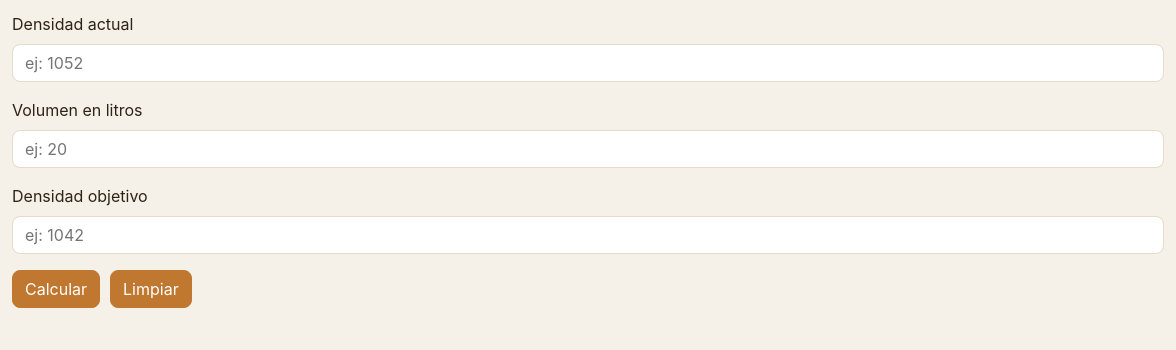
Test case: WaterDilution › muestra el agua a añadir con valores válidos
In the field with placeholder "ej: 1052": (588, 63) [12,44,1164,82], type "1052"
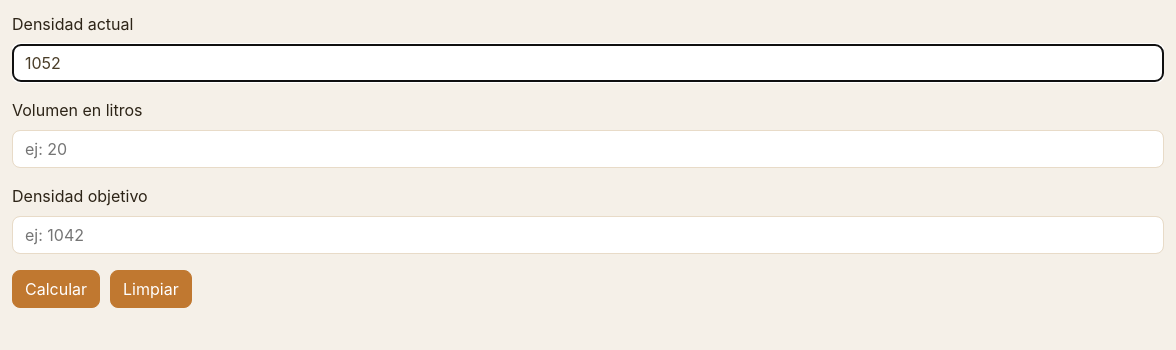
In the field with placeholder "ej: 20": (588, 149) [12,130,1164,168], type "20"
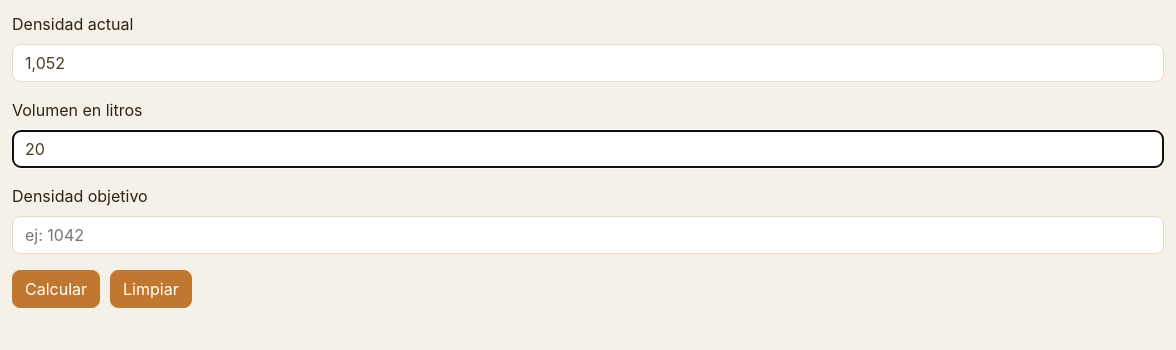
In the field with placeholder "ej: 1042": (588, 235) [12,216,1164,254], type "1042"
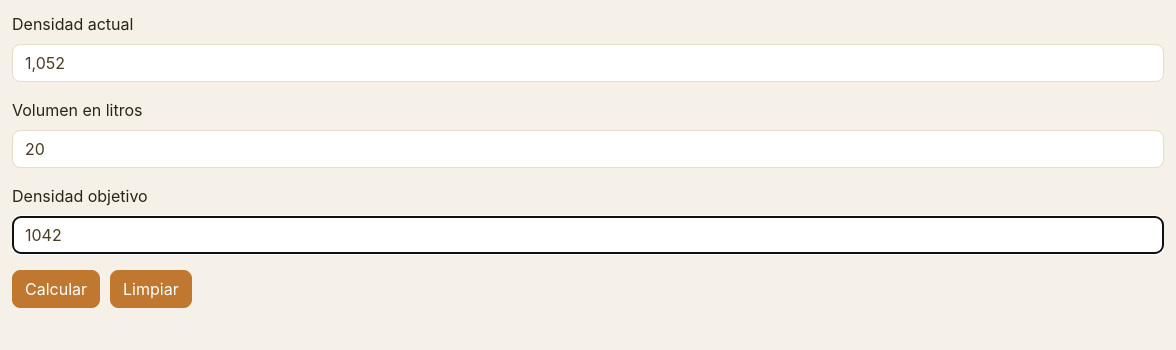
Click the button "Calcular": (56, 289) [12,270,100,308]
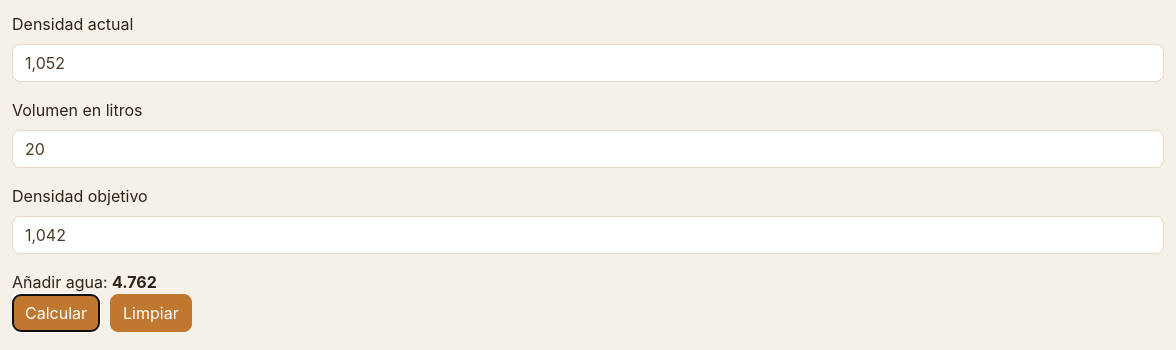
Result: the text "Añadir agua: 4.762" is shown at [12,272,157,292]
